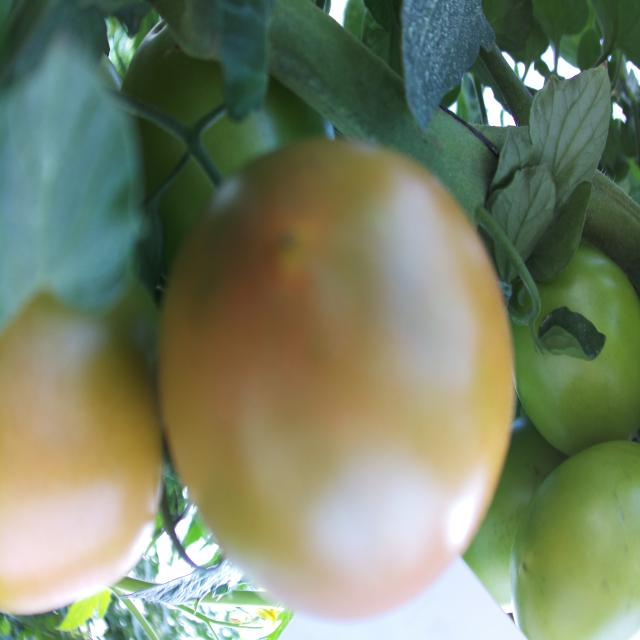sari: (174, 106, 526, 606)
